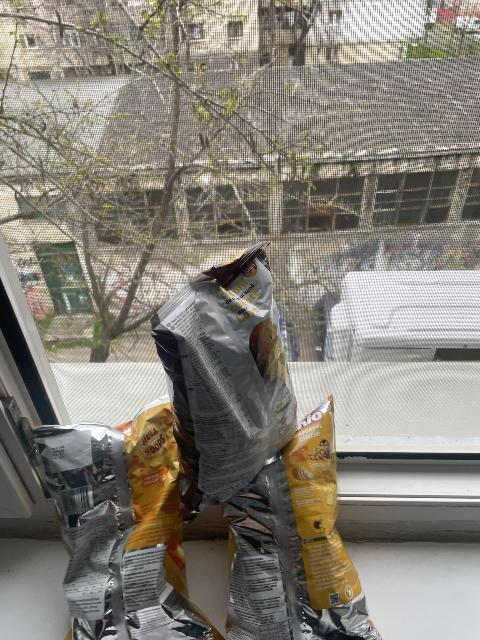Chio Cascaval 125g: (223, 397, 385, 640)
Chio Hula Hoops Cheese 70g: (32, 411, 221, 640)
Lays Beef Grilled Ribs 125g: (150, 254, 297, 491)
